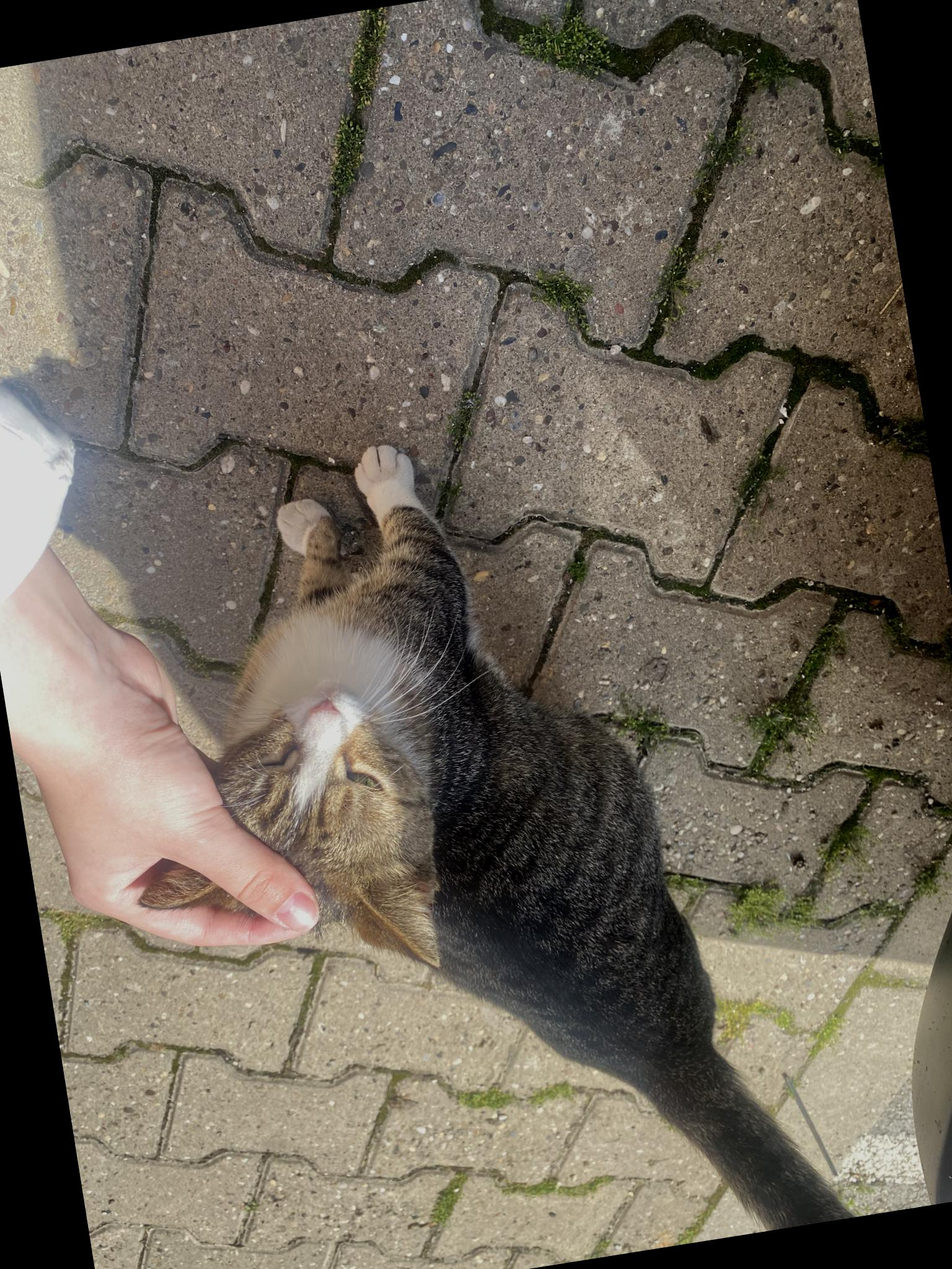macka: (73, 385, 858, 1269)
